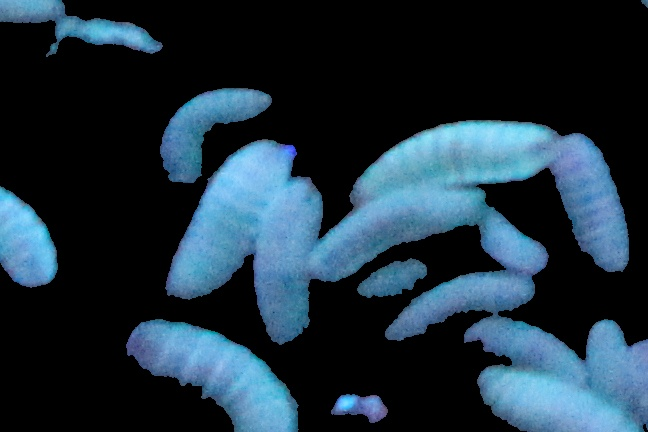larvae: (128, 317, 302, 432), (170, 144, 294, 301), (347, 121, 563, 199), (313, 190, 490, 279), (546, 132, 633, 277), (252, 172, 322, 342), (474, 364, 644, 432), (162, 88, 274, 183), (381, 271, 534, 340), (467, 309, 580, 380), (1, 187, 57, 284), (480, 214, 546, 272), (583, 322, 633, 396), (1, 1, 70, 28)
